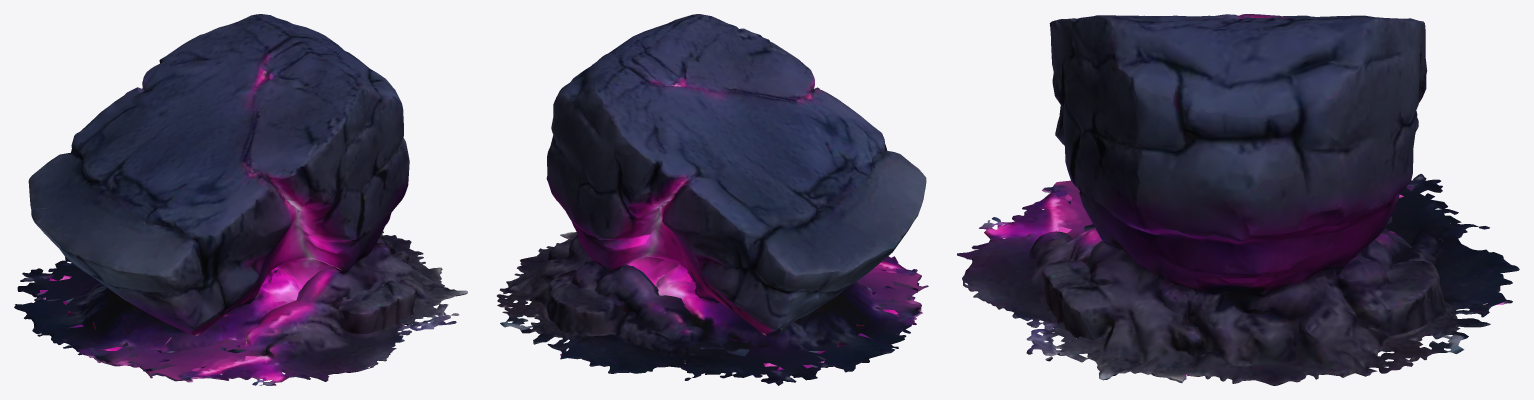
Rendered from shore-stone-1-generated-2026-05-17T19-52-50-116Z.low.glb.
3 renders of one model, left to right at view 1: azimuth 30°, elevation 25°; view 2: azimuth 150°, elevation 25°; view 3: azimuth 270°, elevation 25°, orthographic. The views are drawn at different scales.
Parts seen in each view (by area): view 1: temp_mesh.ply; view 2: temp_mesh.ply; view 3: temp_mesh.ply.
Part boxes in pixels (<box>): temp_mesh.ply: <box>14,14,467,385</box>; temp_mesh.ply: <box>497,14,928,385</box>; temp_mesh.ply: <box>957,14,1519,385</box>.
Bounding box in the file's own units: 1.98 × 1.15 × 1.97.
1 material, 1 textured.
